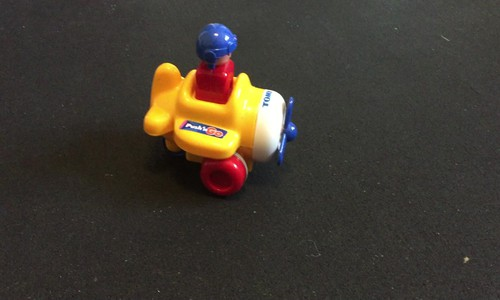toy: (147, 21, 295, 197)
